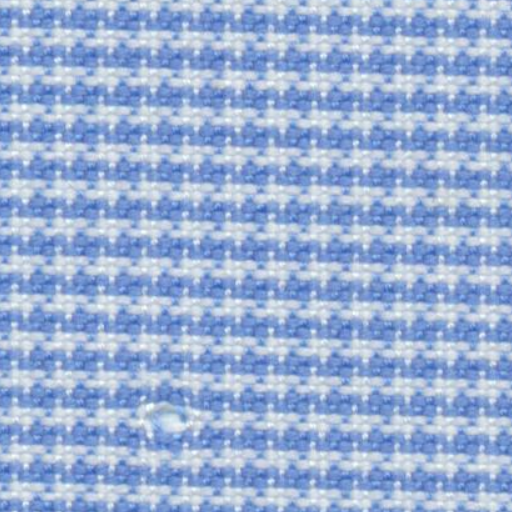PoDong: (116, 372, 212, 456)
